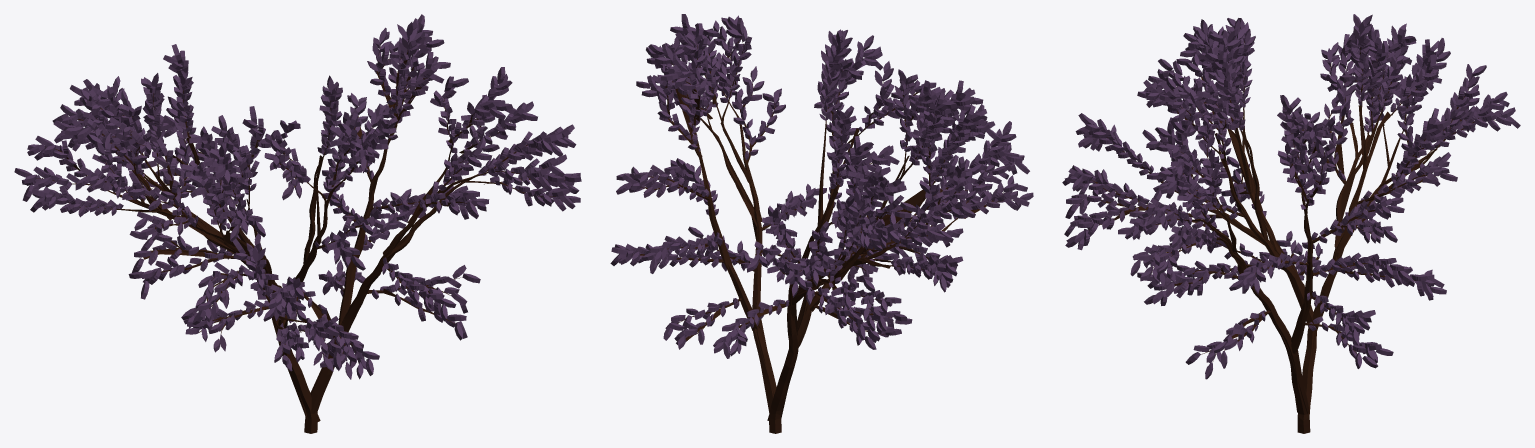
Rendered from purpleTreeL.fbx.
3 renders of one model, left to right at view 1: azimuth 30°, elevation 25°; view 2: azimuth 150°, elevation 25°; view 3: azimuth 270°, elevation 25°, orthographic. The views are drawn at different scales.
Visible parts, largest first — view 1: purpleTreeL, purpleTreeL1, purpleTreeL2; view 2: purpleTreeL, purpleTreeL1, purpleTreeL2; view 3: purpleTreeL, purpleTreeL1, purpleTreeL2.
Boxes of the visible parts, bbox=[...] form: purpleTreeL: bbox=[14, 14, 581, 433]; purpleTreeL1: bbox=[15, 14, 580, 433]; purpleTreeL2: bbox=[29, 42, 563, 421]; purpleTreeL: bbox=[610, 14, 1033, 433]; purpleTreeL1: bbox=[611, 15, 1032, 433]; purpleTreeL2: bbox=[640, 41, 1021, 420]; purpleTreeL: bbox=[1062, 14, 1520, 433]; purpleTreeL1: bbox=[1063, 14, 1518, 433]; purpleTreeL2: bbox=[1071, 23, 1501, 426].
Bounding box in the file's own units: 591 × 512 × 563.
